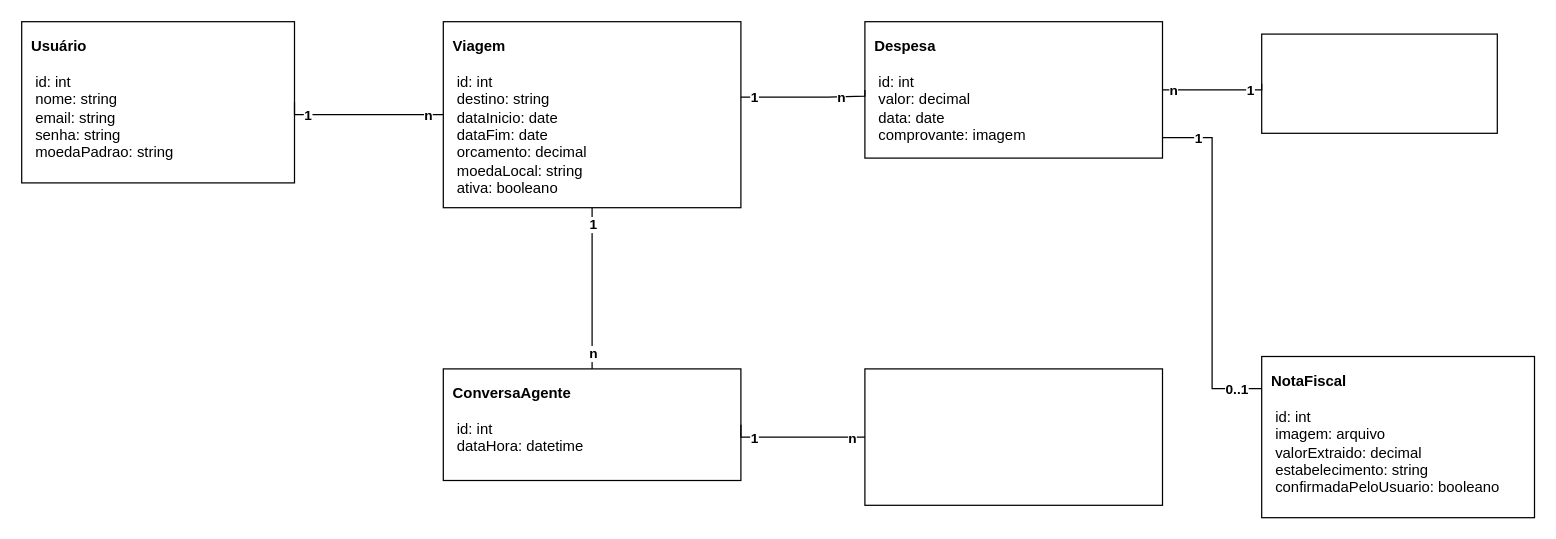
The diagram is 1556 pixels wide and 539 high, and some of its shapes have lost their labels. The box of each missing label's shape, as (x1, y1, x2, y2) in pixels:
Categoria id: int nome: string: (1260, 33, 1497, 133)
Mensagem id: int texto: string autor: string dataHora: datetime: (864, 368, 1162, 505)
